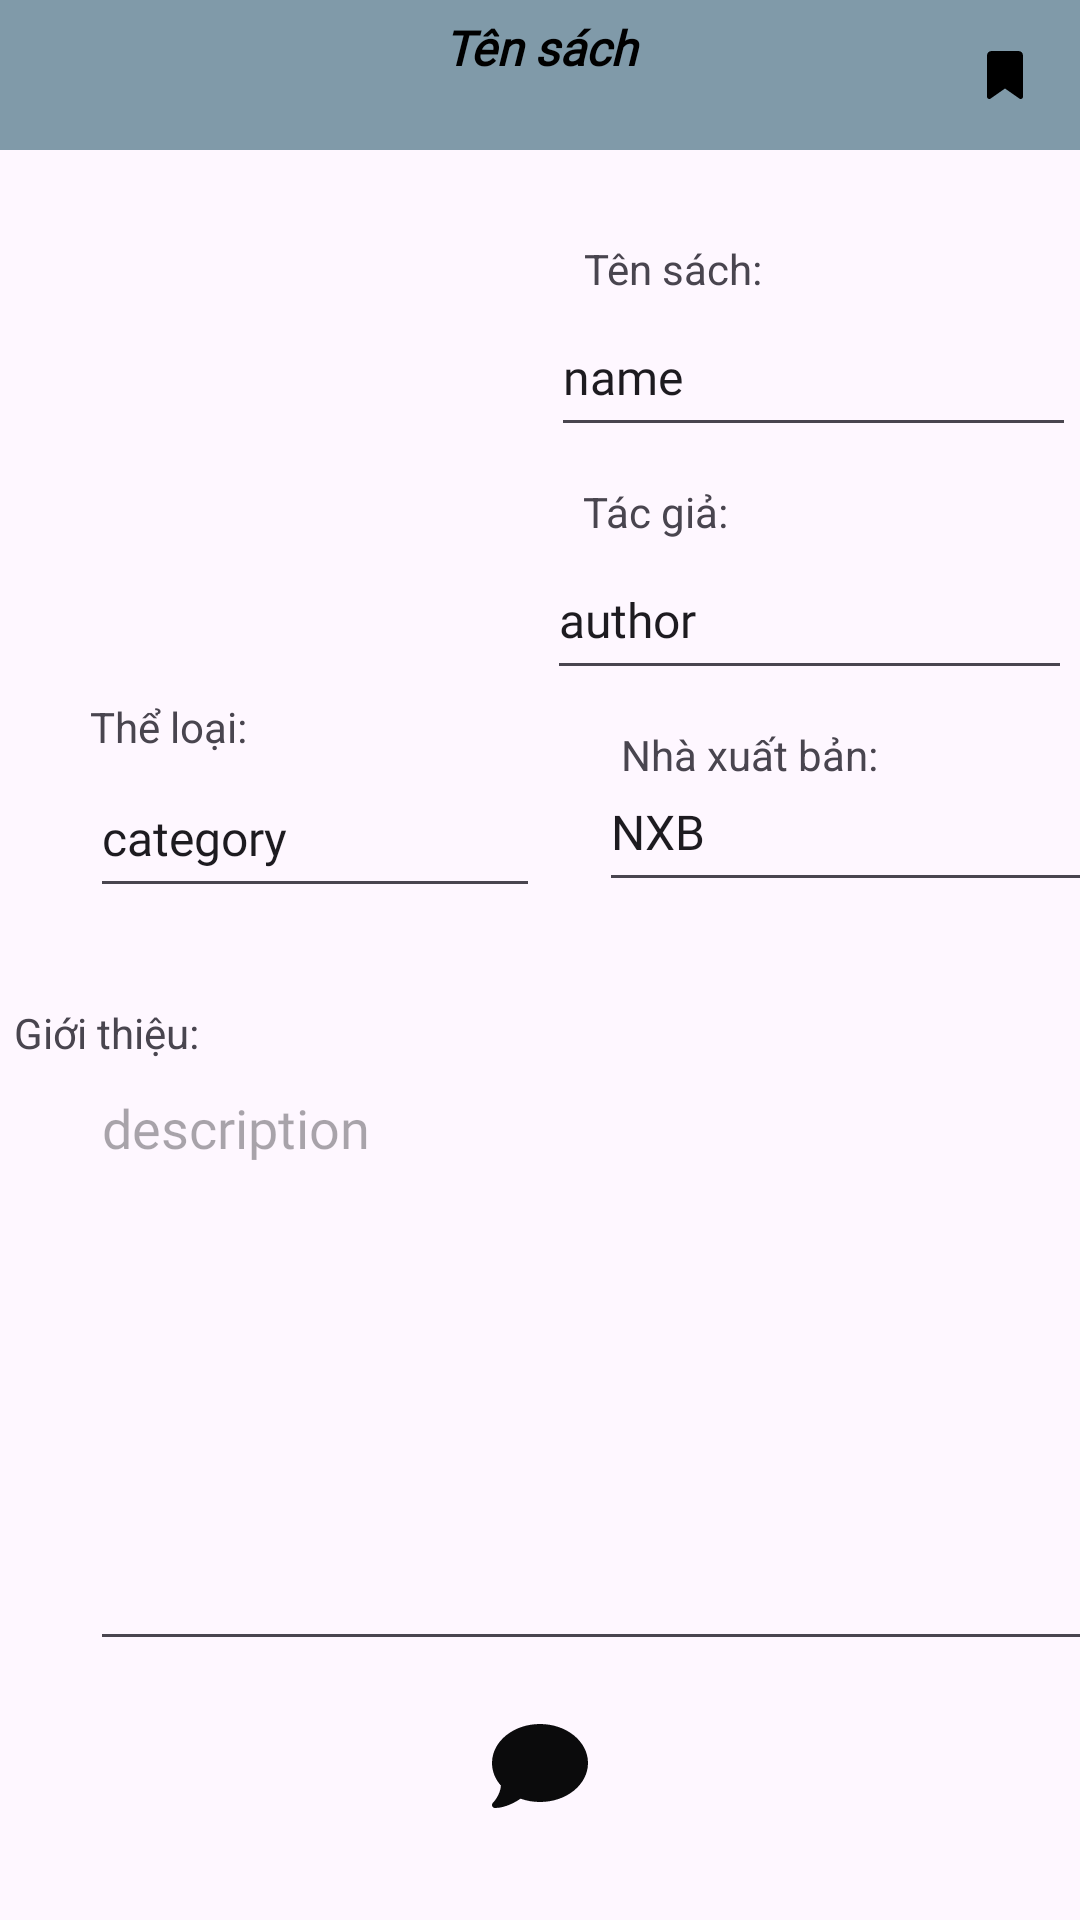

Point at icon controls on the screen. Image size 1080 x 1920, points as [x,y].
comment: [540,1766]
save: [1005,75]
